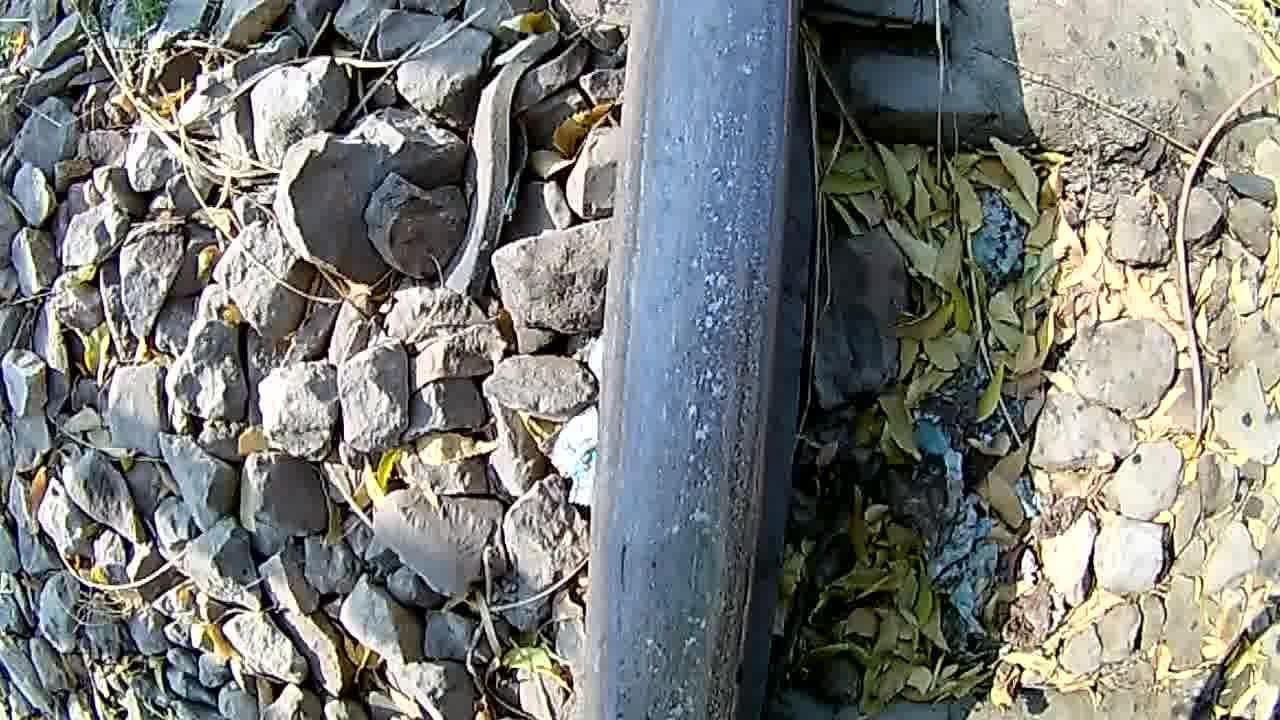crack: (590, 449, 762, 720)
